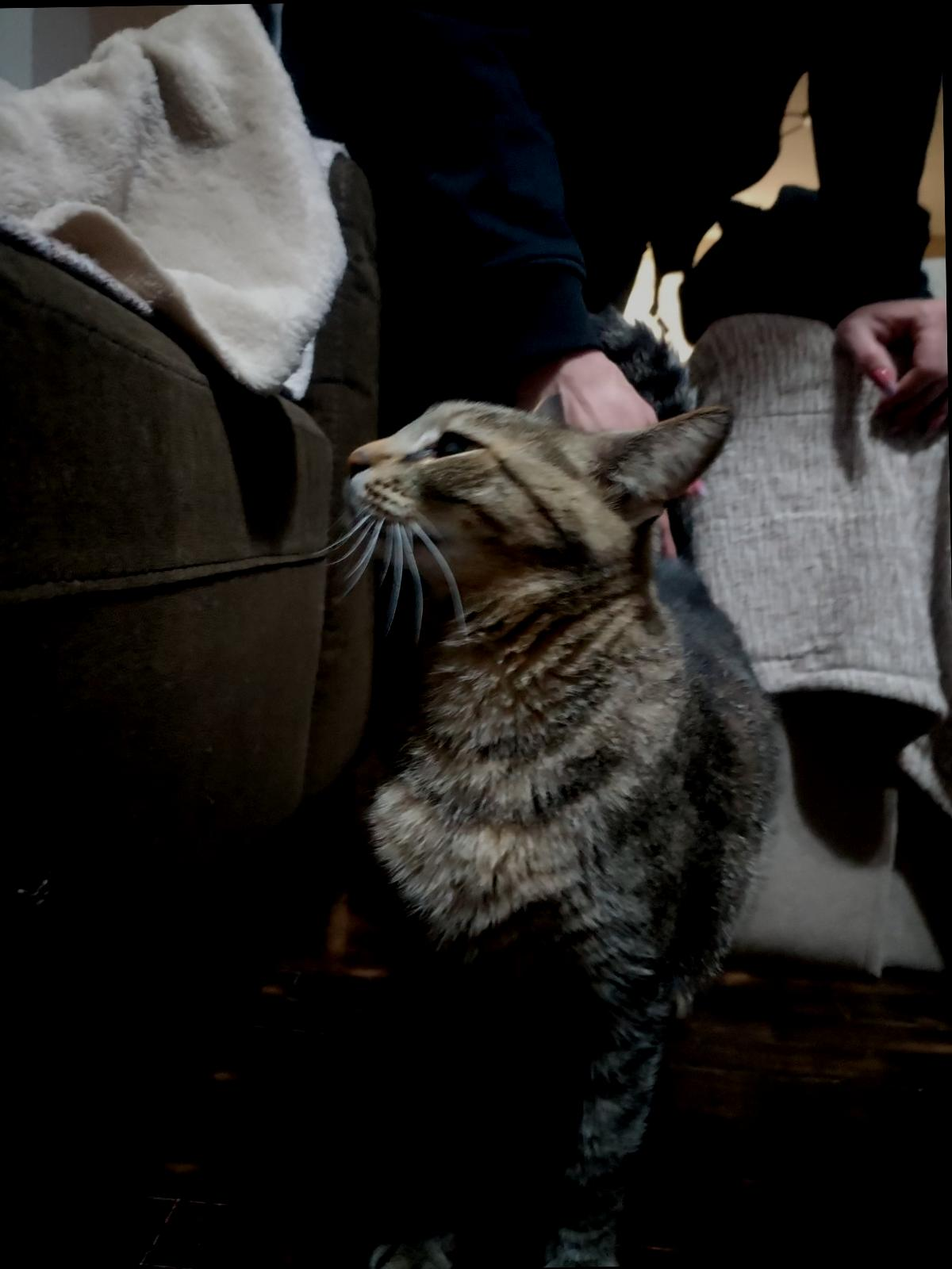macka: (340, 386, 801, 1269)
